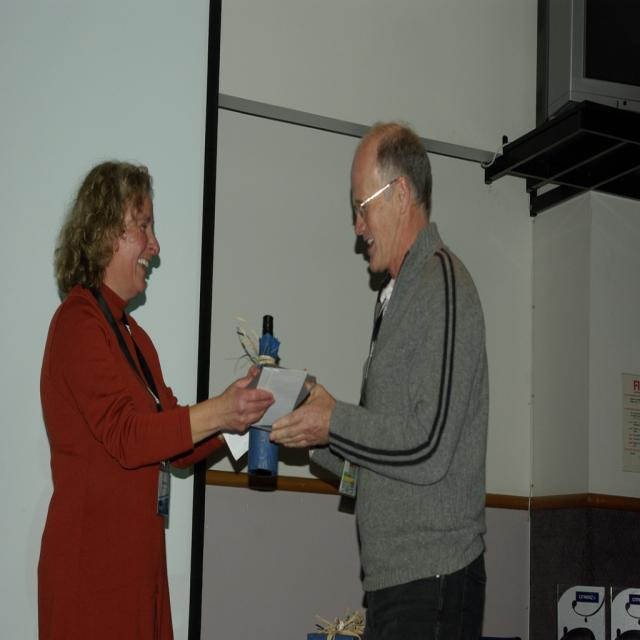no_helmet: (327, 164, 471, 273), (47, 208, 201, 278)
